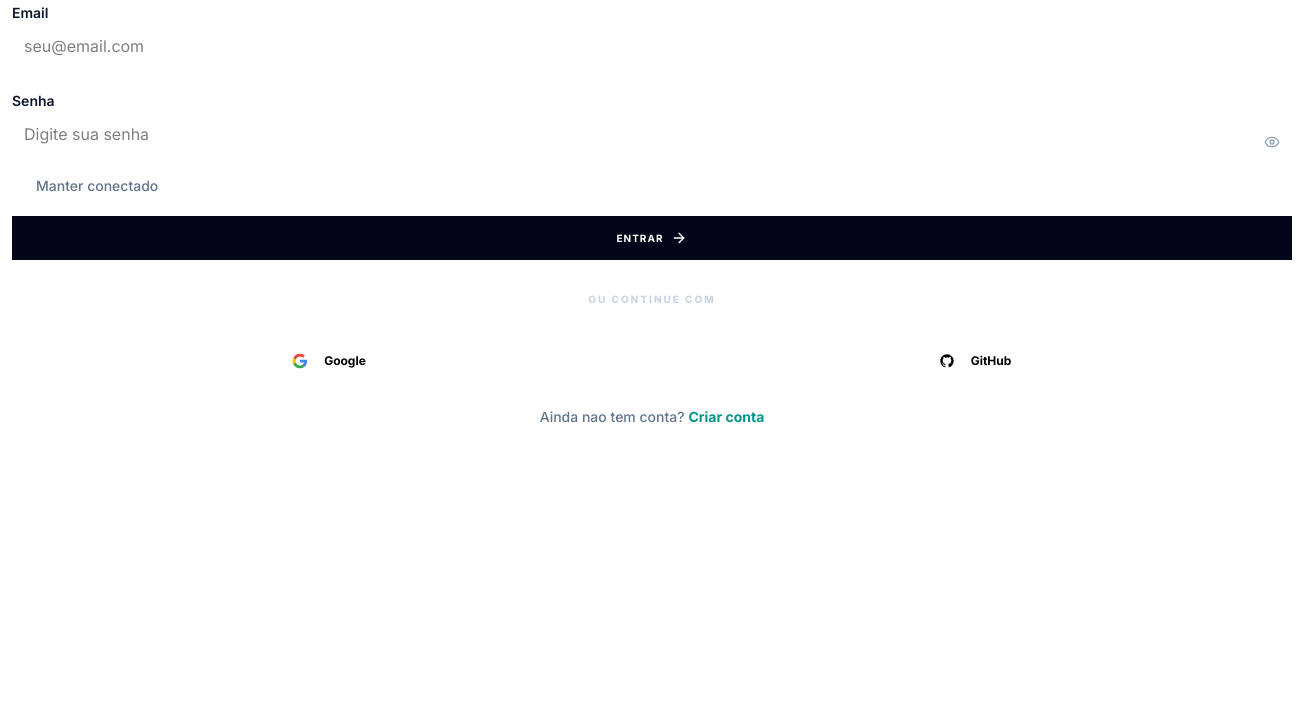
Test case: AuthForm › shows a translated login error
Type "user@example.com" into the field labelled "Email". click: (652, 46)
box: left=12, top=24, right=1292, bottom=68
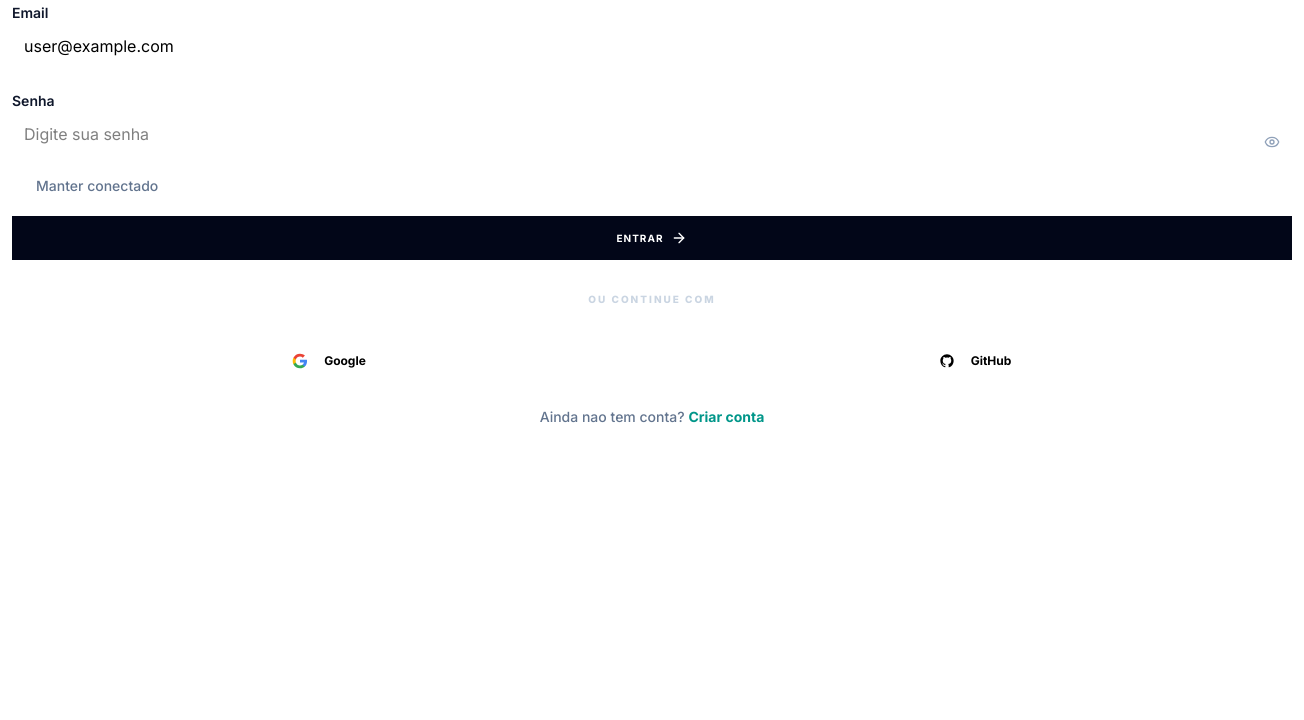
Type "secret123" into the password field labelled "Senha". click: (652, 134)
box: left=12, top=112, right=1292, bottom=156
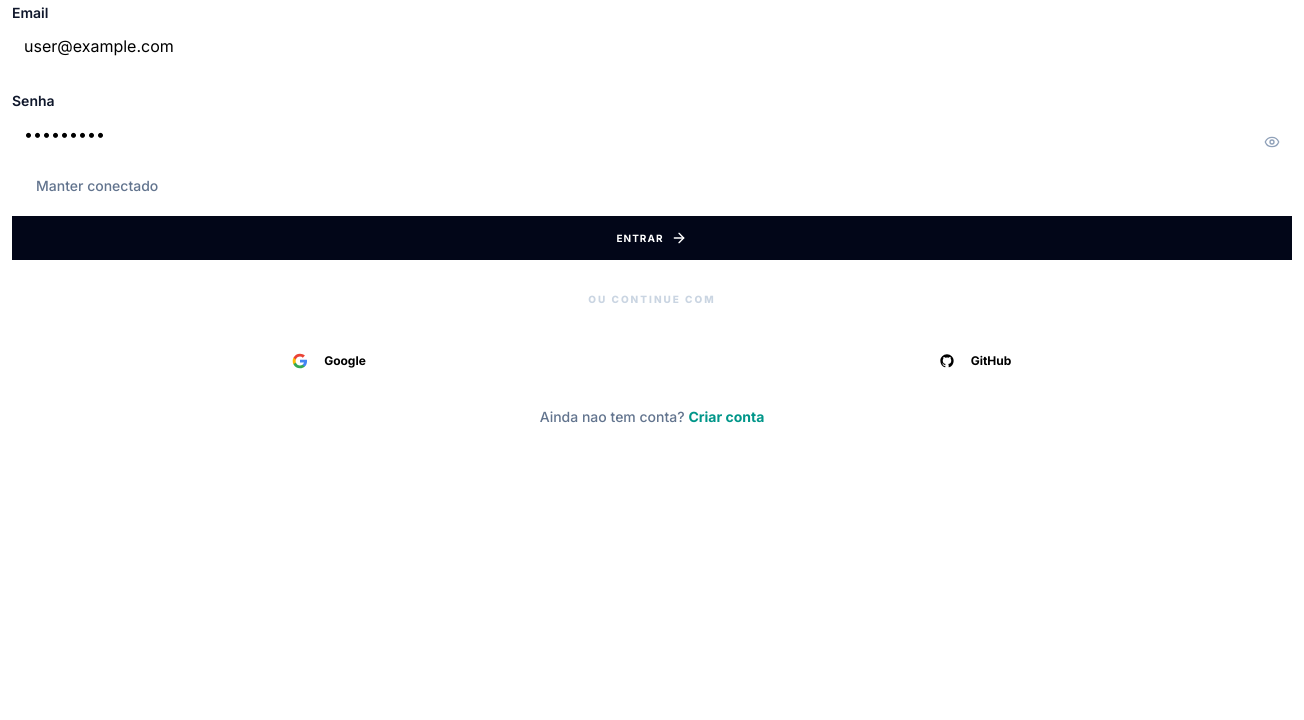
Submit the form, box left=12, top=0, right=1292, bottom=260
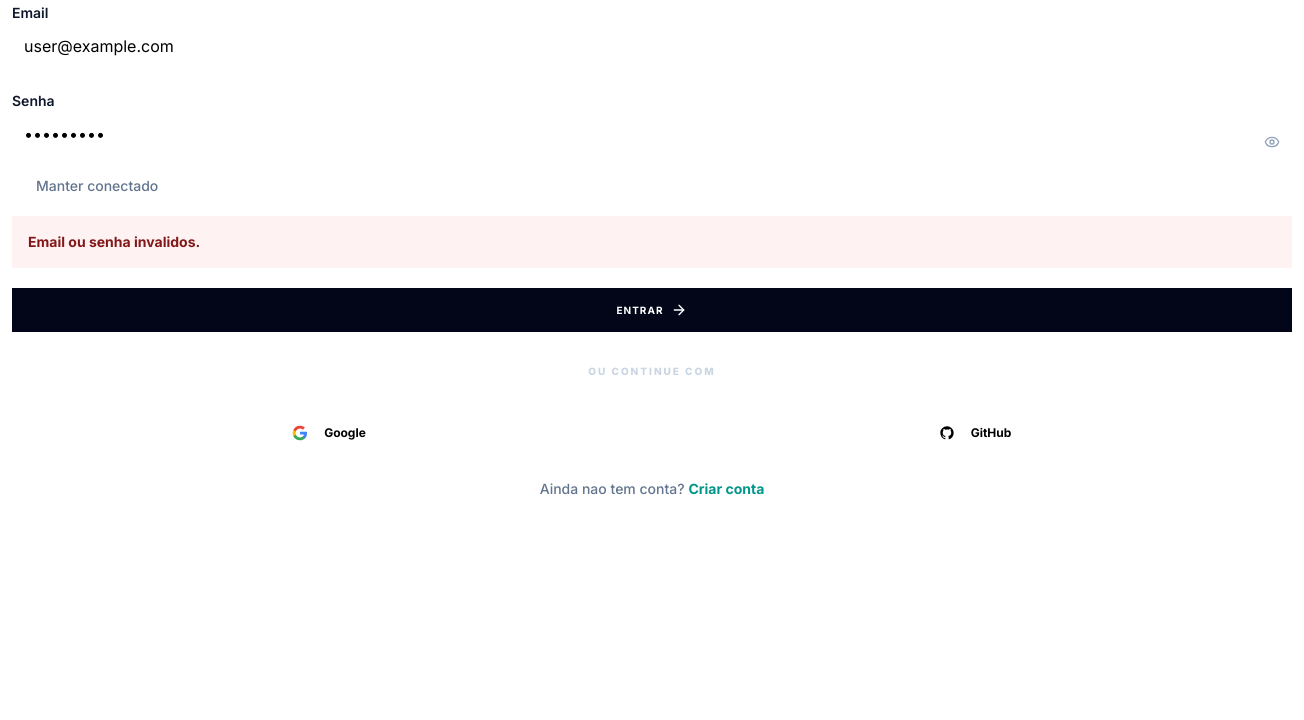
Now the text "Email ou senha invalidos." is shown, box left=12, top=216, right=1292, bottom=268
